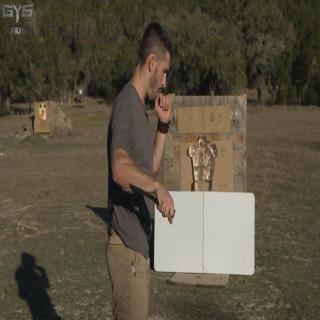knife: (126, 175, 178, 225)
